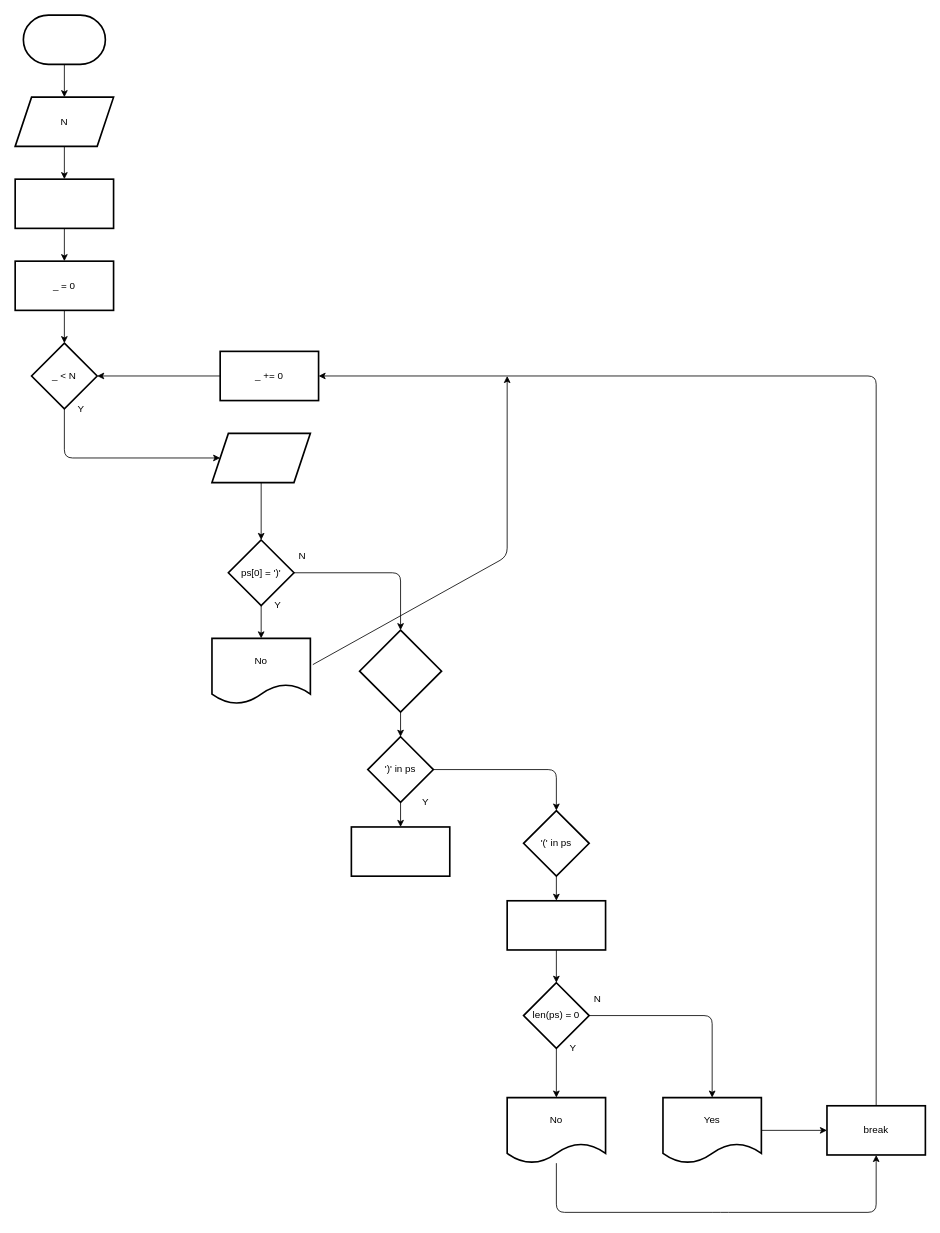
Some shapes in this 940 by 1233 pixel diagram are drawn without their labels. The shapes that lost their labels are listed below. From the top down, each one's centre as x and y in pixels, then its label:
At (x=64, y=39): "start".
At (x=64, y=203): "ps_list".
At (x=261, y=457): "ps".
At (x=400, y=671): "while True".
At (x=400, y=851): "ps_list.append(')')".
At (x=556, y=925): "ps_list.pop()".
